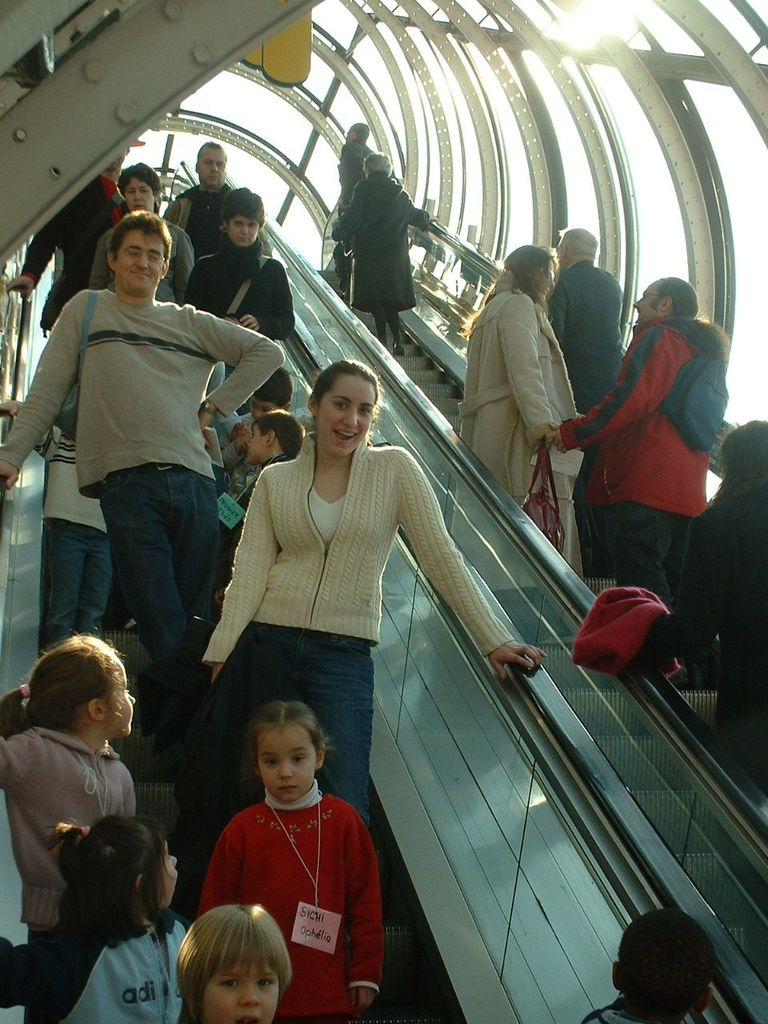Human-face: (113, 148, 706, 1023), (314, 374, 376, 458), (201, 965, 278, 1023), (258, 726, 315, 801), (114, 231, 164, 290), (101, 660, 136, 738), (154, 843, 180, 905), (632, 280, 662, 324), (198, 148, 224, 189), (126, 180, 155, 211), (245, 428, 270, 463), (227, 217, 255, 245), (535, 262, 554, 302), (252, 400, 278, 419)
